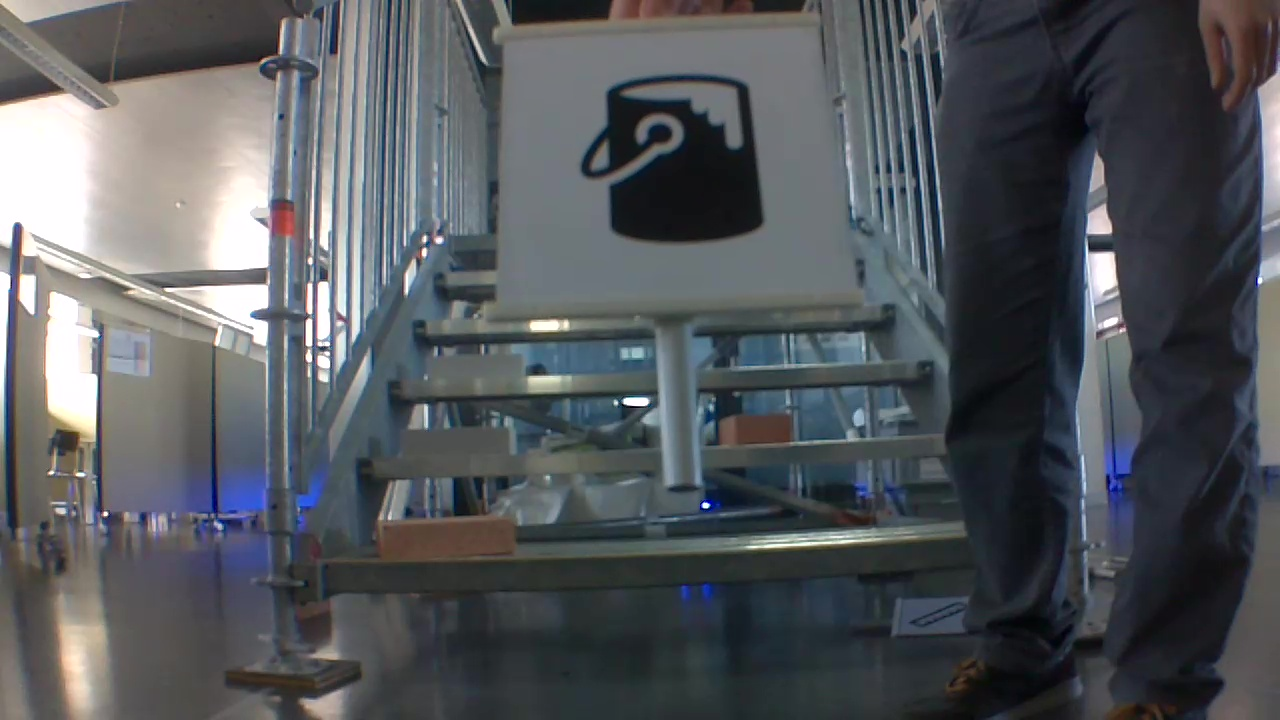brick: (377, 518, 512, 559), (403, 426, 516, 460), (427, 352, 526, 378), (721, 413, 793, 444)
bucket: (571, 64, 773, 248)
